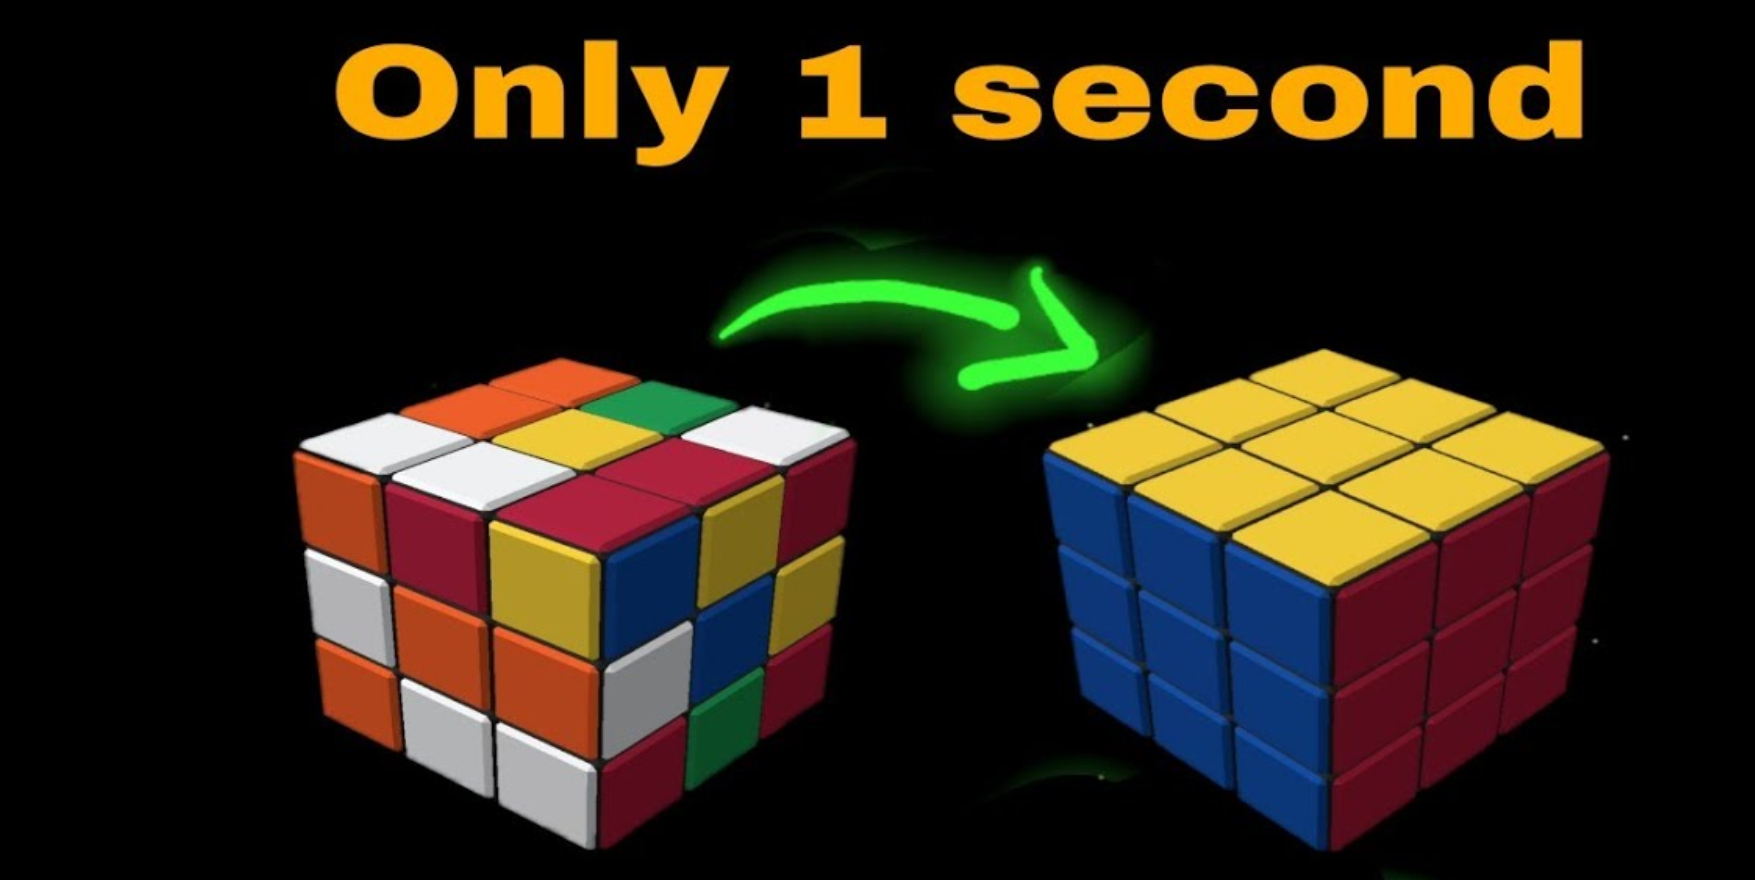cube: (1042, 339, 1605, 852), (288, 343, 855, 847)
